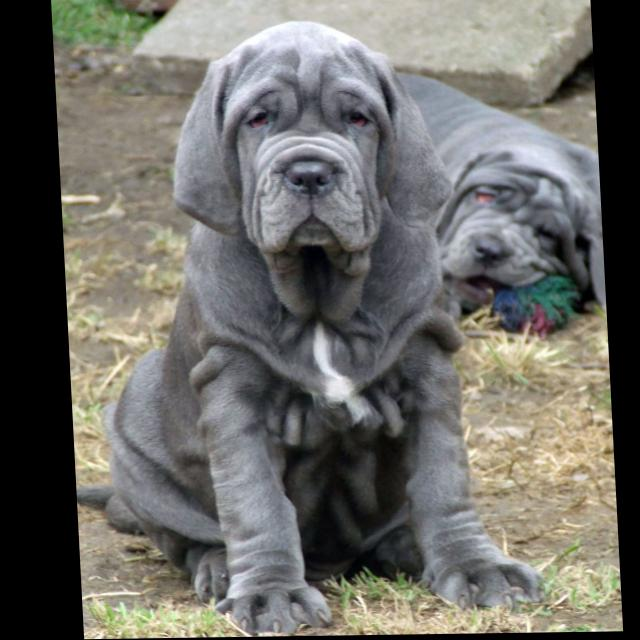mastino_napoletano: (52, 19, 543, 640), (393, 70, 604, 329)
